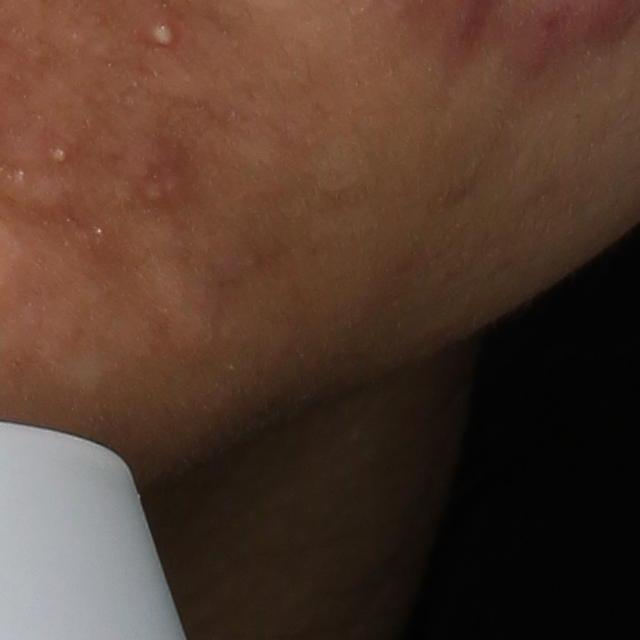pustule: (143, 14, 188, 55)
